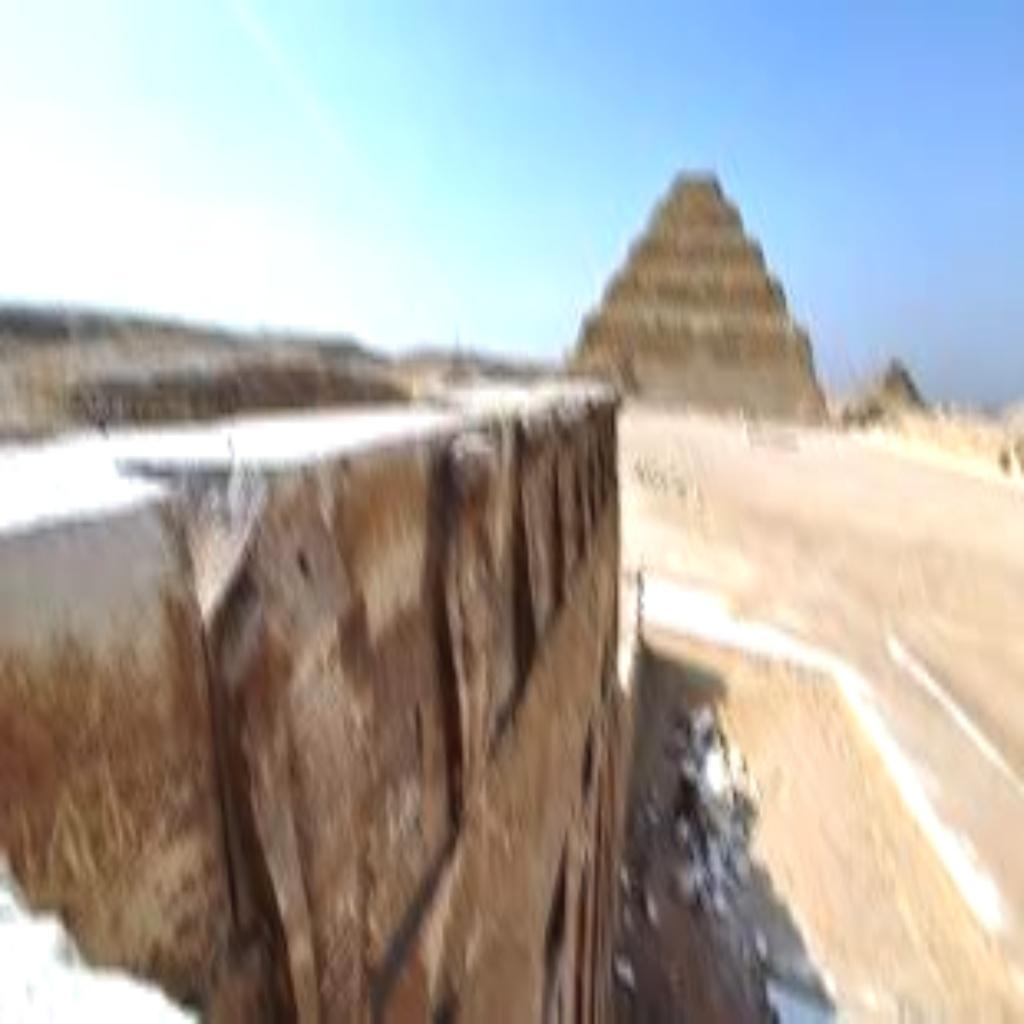Pyramid of Djoser: (560, 158, 834, 426)
